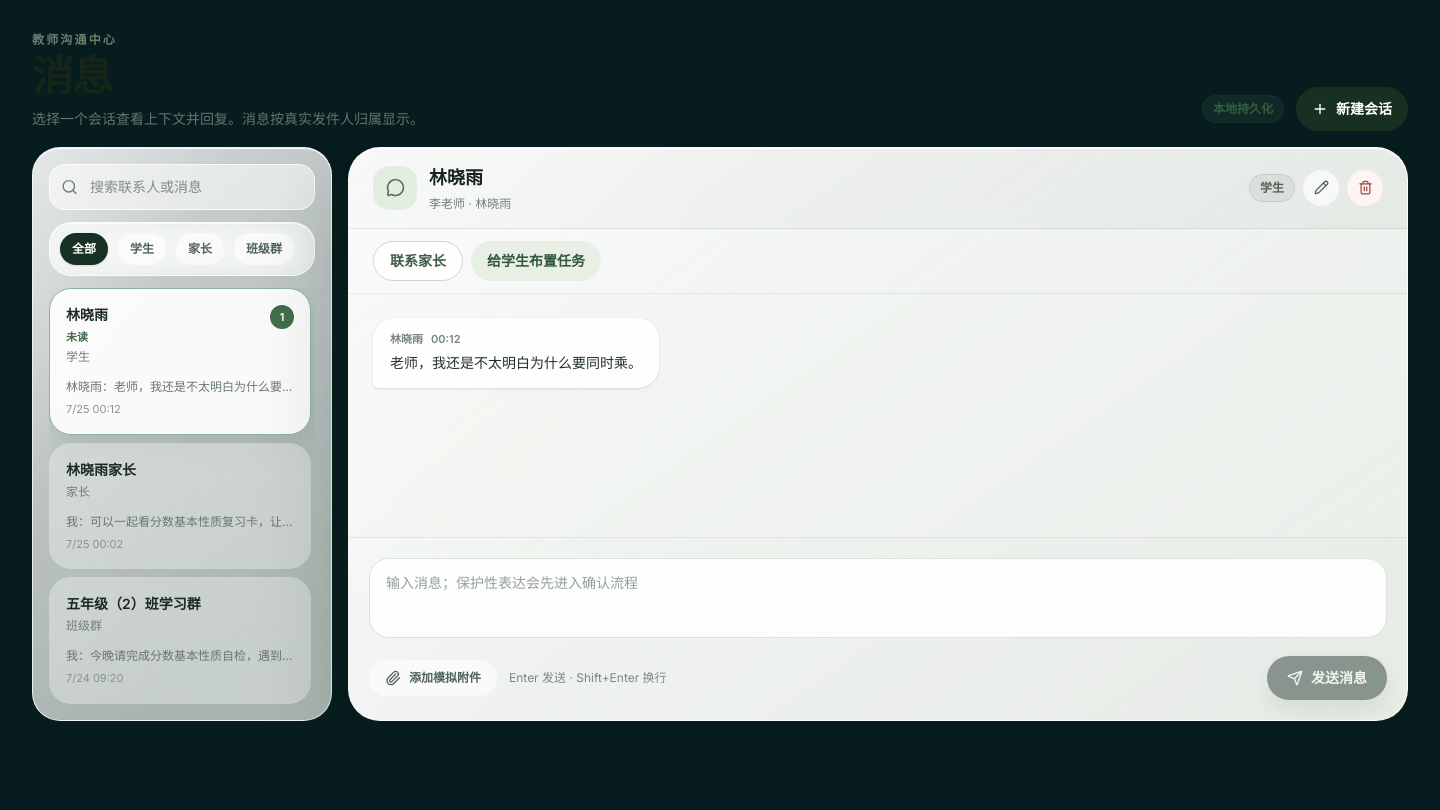
Test case: MessagesPage › selects a parent conversation and sends a normal message through shared state
Click the button with aria-label "打开林晓雨家长会话" at x=101, y=469, box [49,443,311,569]
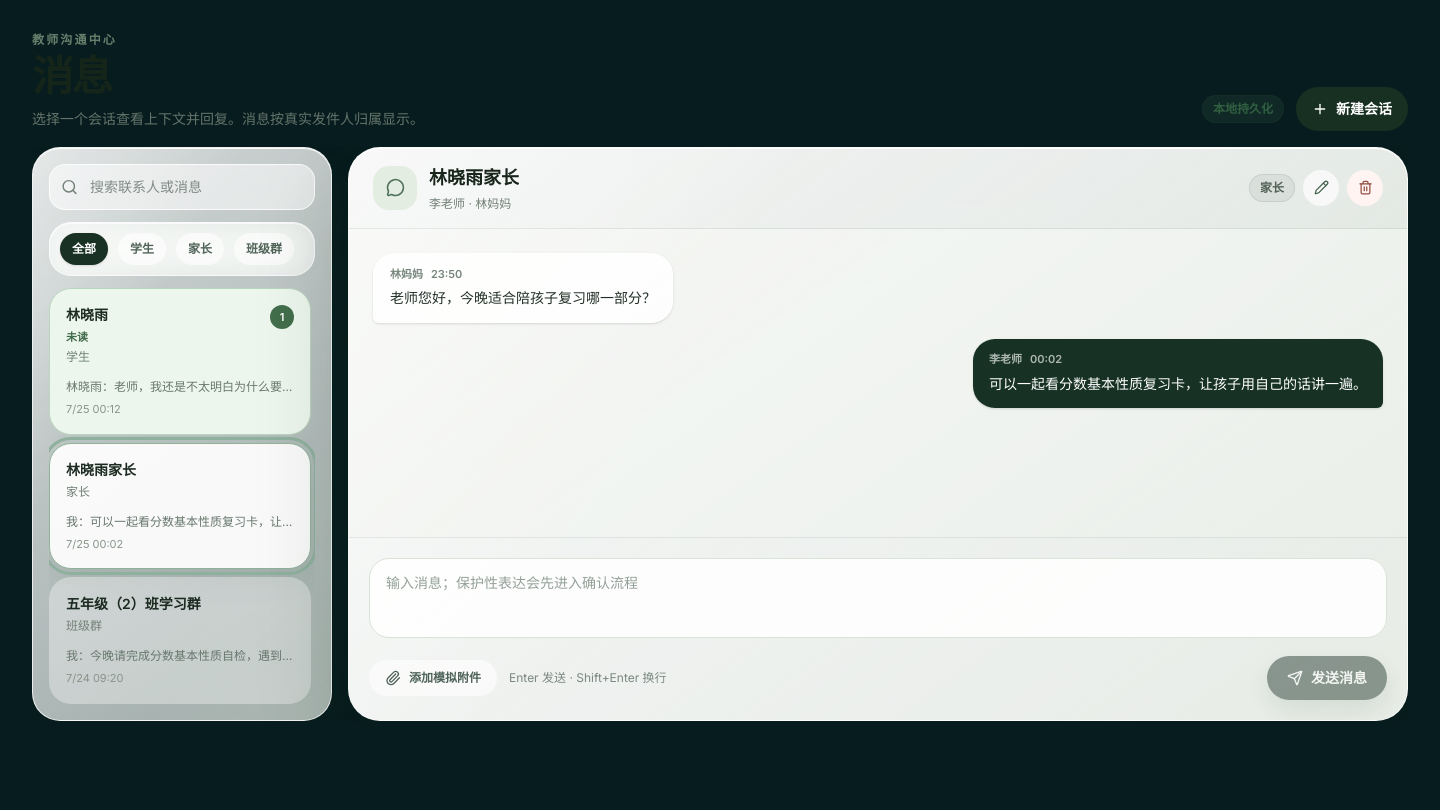
Expected: the heading "林晓雨家长" is shown, [429,164,519,192]
Expected: the text "老师您好，今晚适合陪孩子复习哪一部分？" is shown, [390,286,656,310]
Type "建议先复述分数基本性质，再完成一道自检题。" into the text box labelled "输入消息" at x=878, y=598, box [369,558,1387,638]
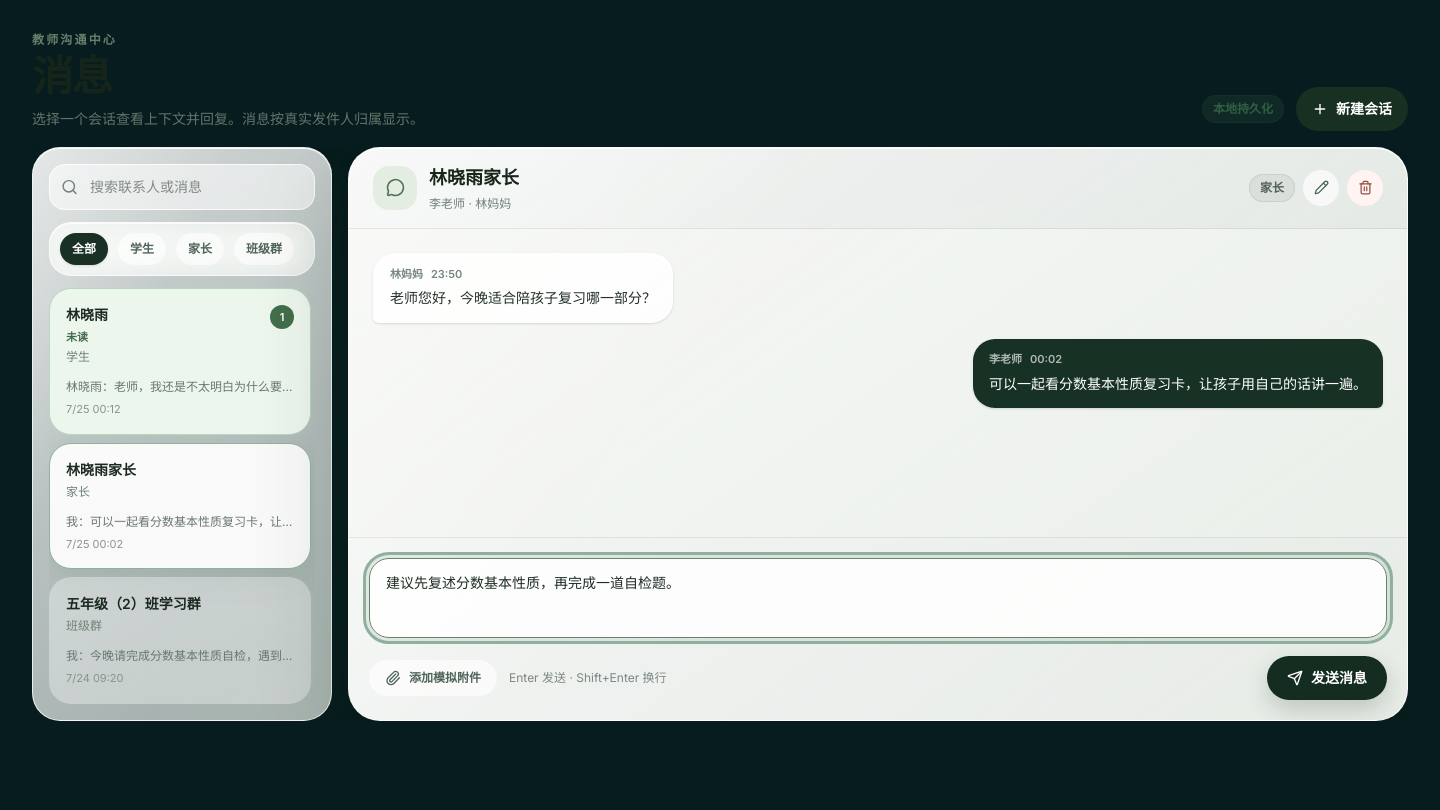
Click the button "发送消息" at x=1327, y=678, box [1267,656,1387,700]
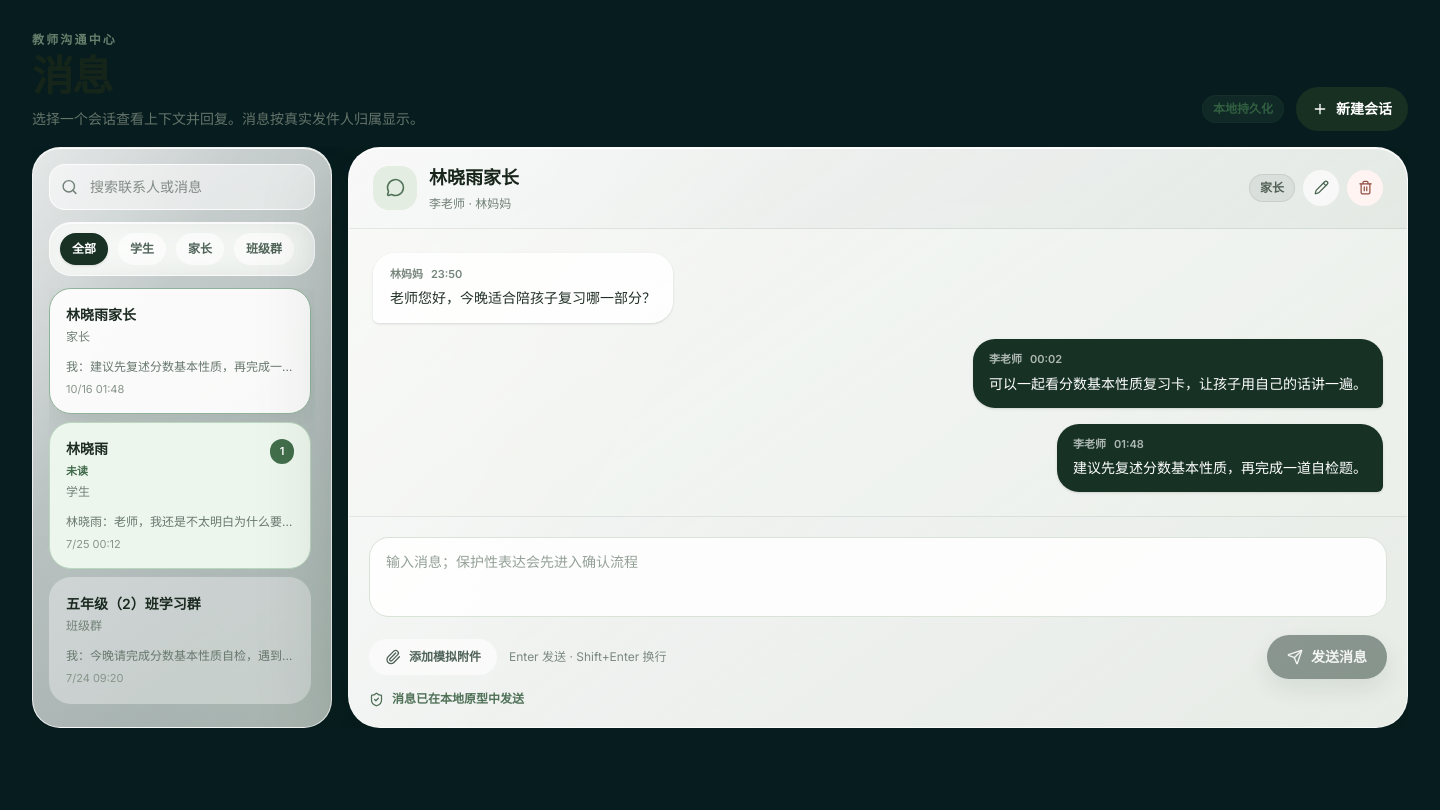
Expected: the text "建议先复述分数基本性质，再完成一道自检题。" is shown, [1073,456,1367,480]
Expected: the text box labelled "输入消息" is empty, [369,537,1387,617]
